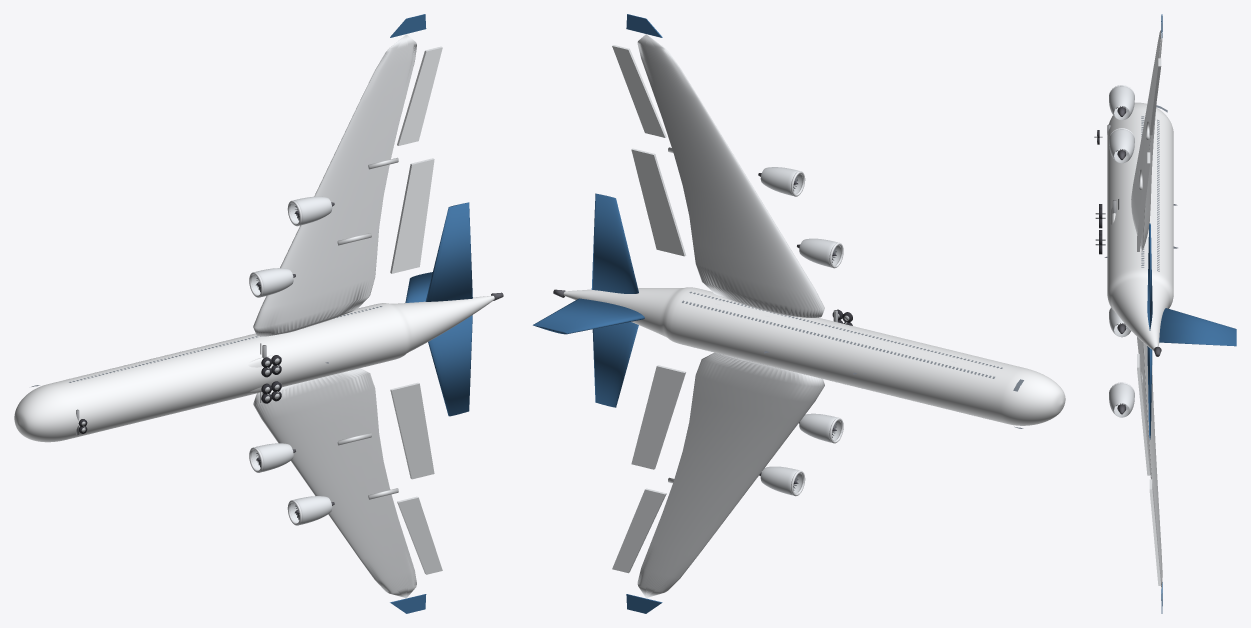
The picture shows the model from 3 angles, left to right: view 1: azimuth 30°, elevation 25°; view 2: azimuth 150°, elevation 25°; view 3: azimuth 270°, elevation 25°; orthographic projection.
Parts seen in each view (by area): view 1: Fuselage, Wing_R, Wing_L, HStab_R, HStab_L, Flap_R, Flap_L, Aileron_R, Aileron_L, Nacelle_1_1, Nacelle_-1_0, Nacelle_1_0 (+1 smaller); view 2: Fuselage, Wing_L, Wing_R, HStab_R, Flap_L, HStab_L, Flap_R, Fin, Aileron_L, Aileron_R, Nacelle_-1_1, Nacelle_1_0 (+2 smaller); view 3: Fuselage, Fin, Wing_R, Wing_L, Nacelle_-1_1, Nacelle_1_0, Nacelle_1_1, Flap_L, Flap_R, Aileron_L, HStab_R, HStab_L (+3 smaller).
Part boxes in pixels (left/top/right/bottom): Fuselage: left=14, top=295, right=494, bottom=442; Wing_R: left=253, top=34, right=416, bottom=336; Wing_L: left=253, top=368, right=416, bottom=598; HStab_R: left=425, top=202, right=472, bottom=301; HStab_L: left=428, top=315, right=472, bottom=416; Flap_R: left=390, top=158, right=434, bottom=273; Flap_L: left=390, top=382, right=434, bottom=479; Aileron_R: left=397, top=46, right=442, bottom=145; Aileron_L: left=397, top=496, right=442, bottom=574; Nacelle_1_1: left=290, top=196, right=332, bottom=225; Nacelle_-1_0: left=252, top=443, right=293, bottom=472; Nacelle_1_0: left=252, top=268, right=293, bottom=296; Fuselage: left=563, top=287, right=1065, bottom=425; Wing_L: left=637, top=352, right=824, bottom=597; Wing_R: left=637, top=34, right=824, bottom=317; HStab_R: left=591, top=193, right=638, bottom=293; Flap_L: left=631, top=365, right=685, bottom=469; HStab_L: left=592, top=322, right=638, bottom=407; Flap_R: left=631, top=148, right=686, bottom=256; Fin: left=533, top=298, right=644, bottom=334; Aileron_L: left=612, top=488, right=666, bottom=573; Aileron_R: left=612, top=45, right=666, bottom=137; Nacelle_-1_1: left=760, top=466, right=802, bottom=495; Nacelle_1_0: left=799, top=238, right=840, bottom=267; Fuselage: left=1107, top=102, right=1173, bottom=350; Fin: left=1159, top=308, right=1236, bottom=346; Wing_R: left=1131, top=30, right=1162, bottom=251; Wing_L: left=1137, top=337, right=1162, bottom=588; Nacelle_-1_1: left=1109, top=383, right=1134, bottom=417; Nacelle_1_0: left=1109, top=129, right=1134, bottom=163; Nacelle_1_1: left=1109, top=86, right=1134, bottom=120; Flap_L: left=1137, top=354, right=1150, bottom=475; Flap_R: left=1137, top=152, right=1150, bottom=251; Aileron_L: left=1149, top=479, right=1161, bottom=585; HStab_R: left=1147, top=223, right=1152, bottom=330; HStab_L: left=1147, top=346, right=1152, bottom=439.
Size of the model in its own units: 73.25 by 83.99 by 18.35.
